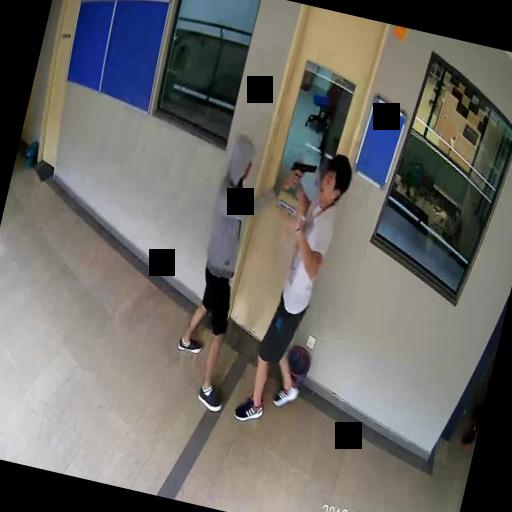Handgun: (288, 158, 316, 190)
